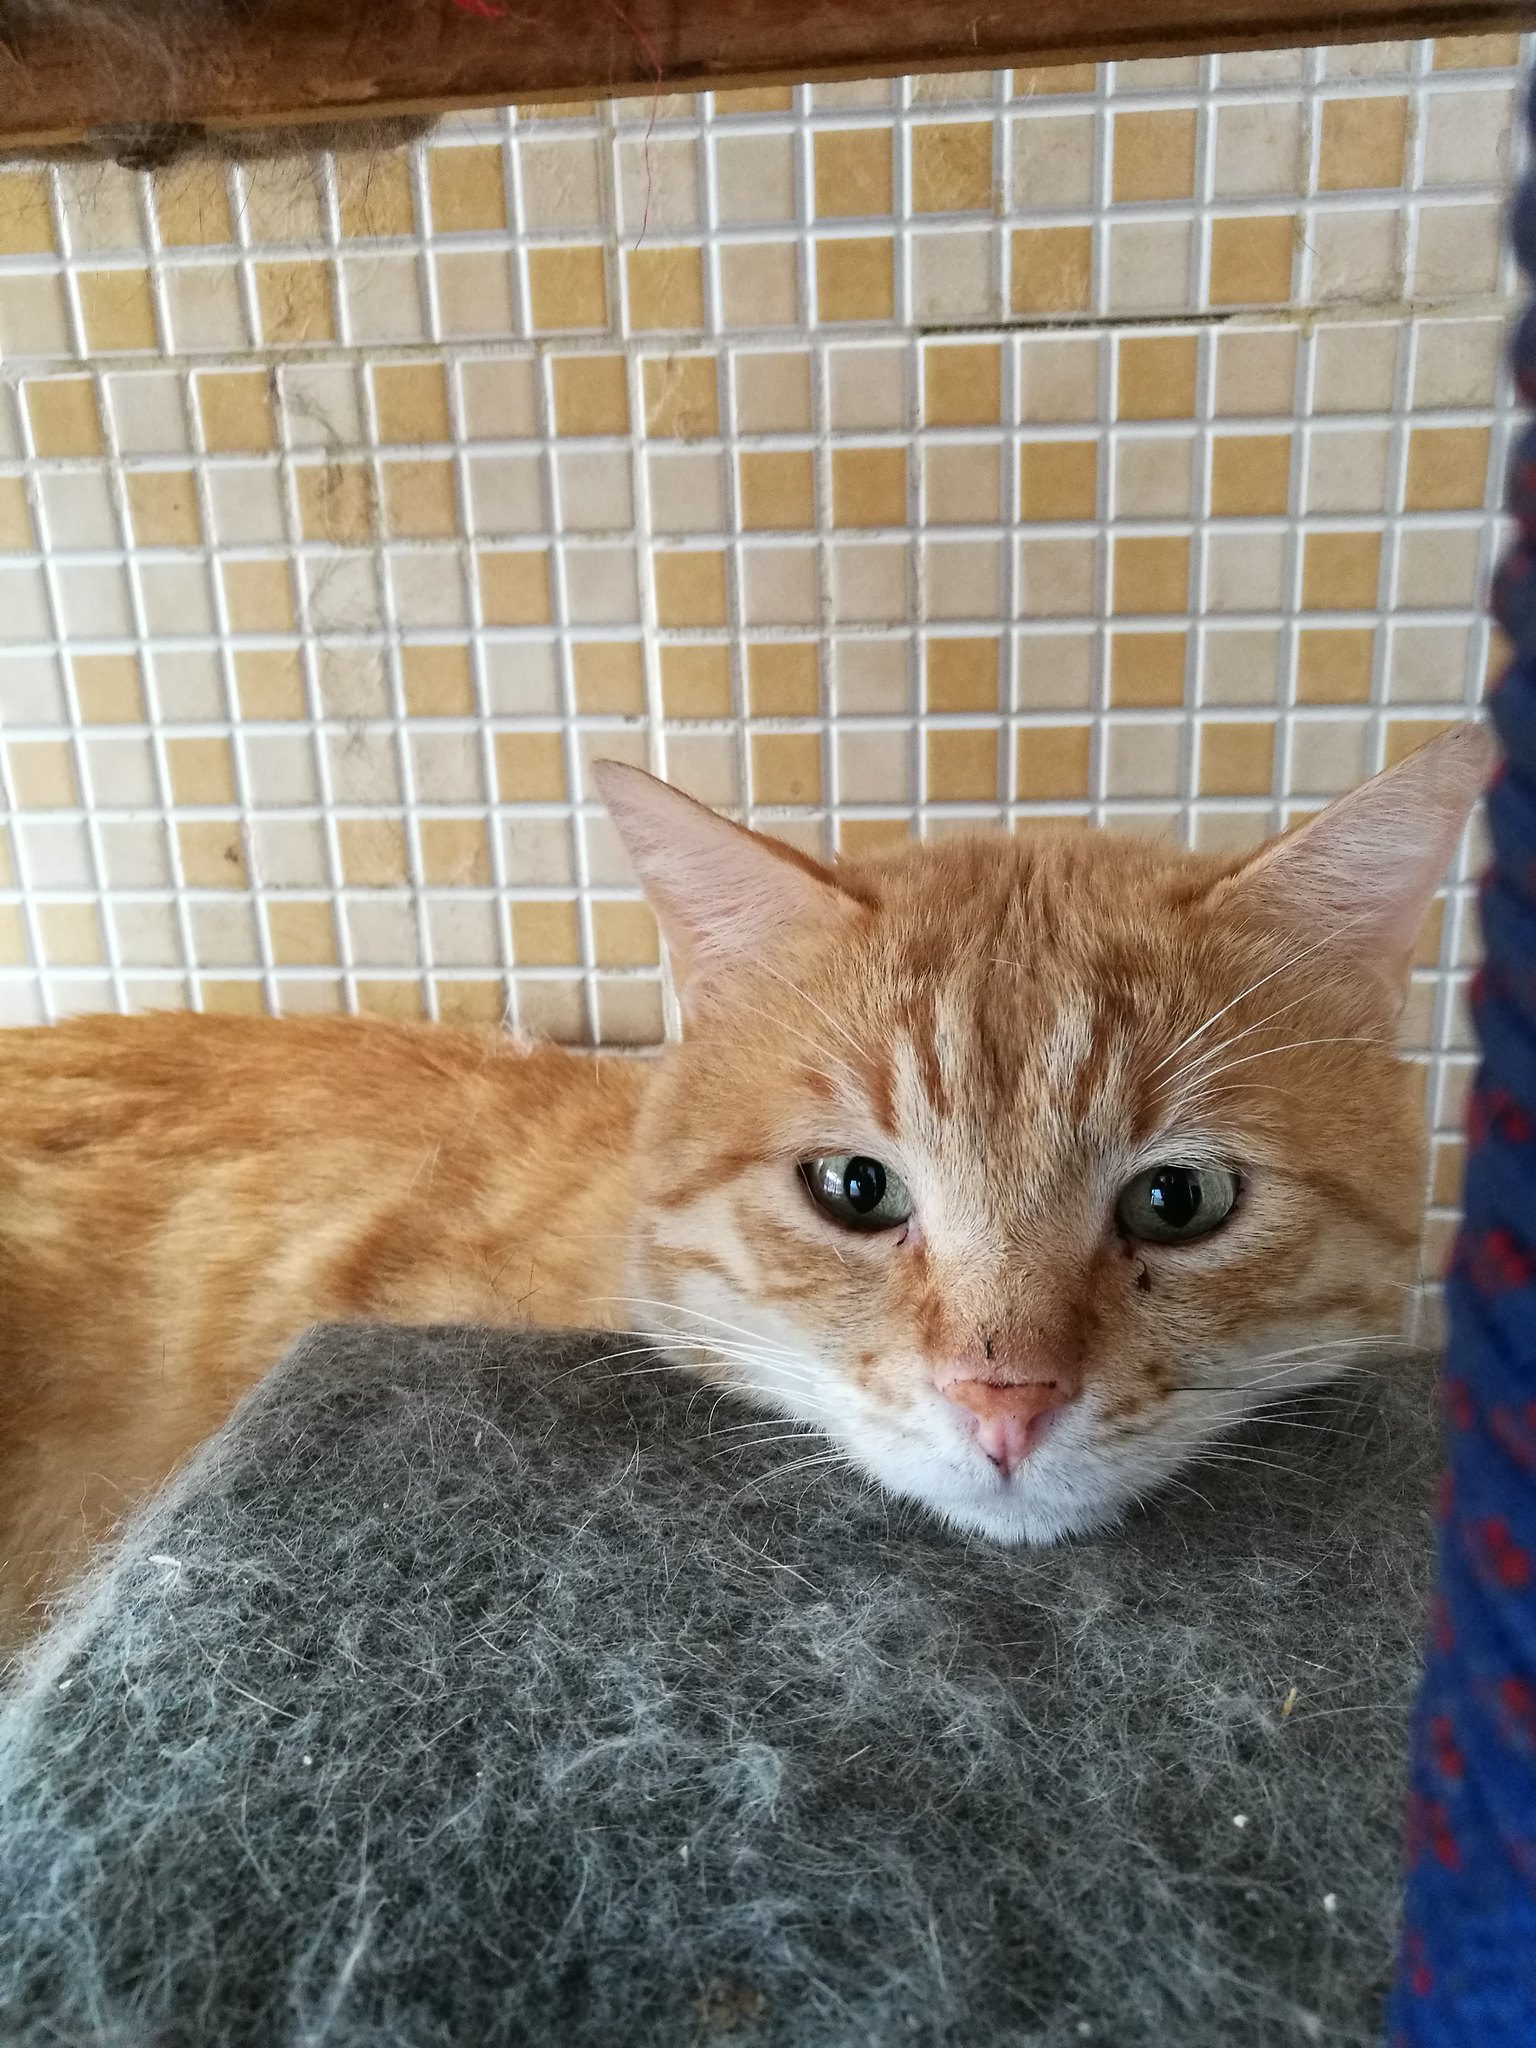cat: (2, 645, 1496, 1671)
